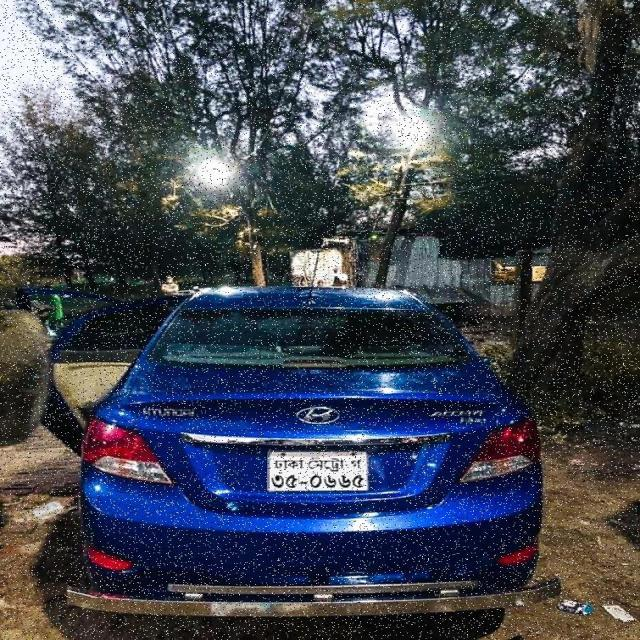numberplate: (265, 447, 369, 493)
